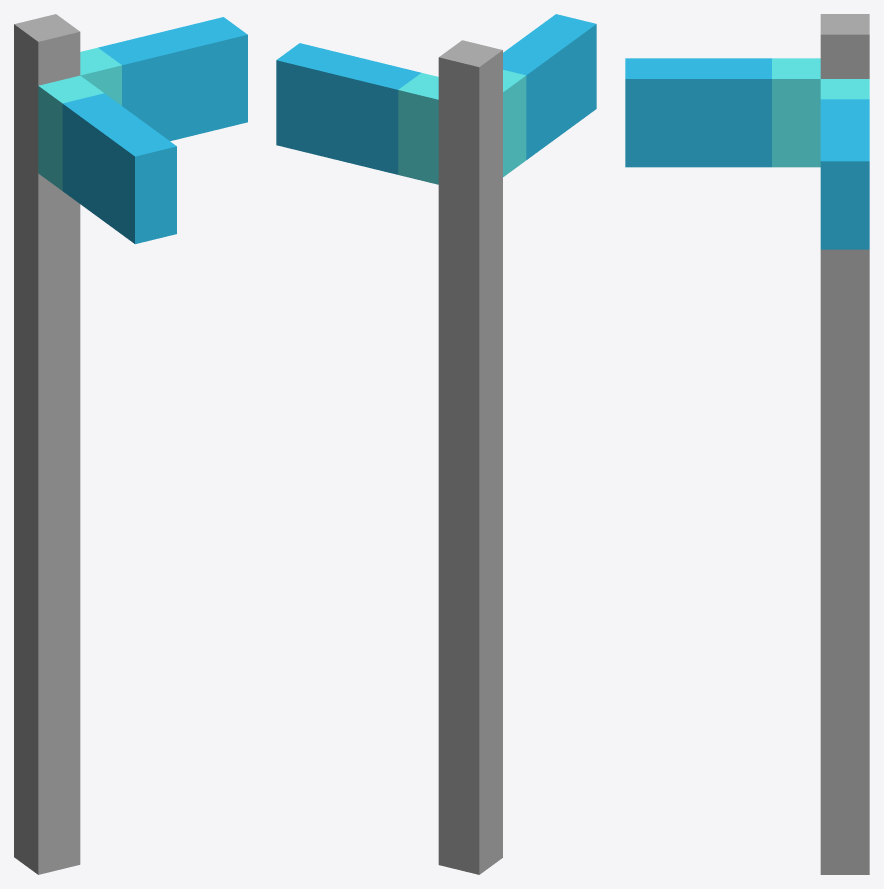
Rendered from obj_sign6.obj.
3 renders of one model, left to right at view 1: azimuth 30°, elevation 25°; view 2: azimuth 150°, elevation 25°; view 3: azimuth 270°, elevation 25°, orthographic. The views are drawn at different scales.
Size of the model in its own units: 0.5 by 1.9 by 0.5.
1 material, 1 textured.
